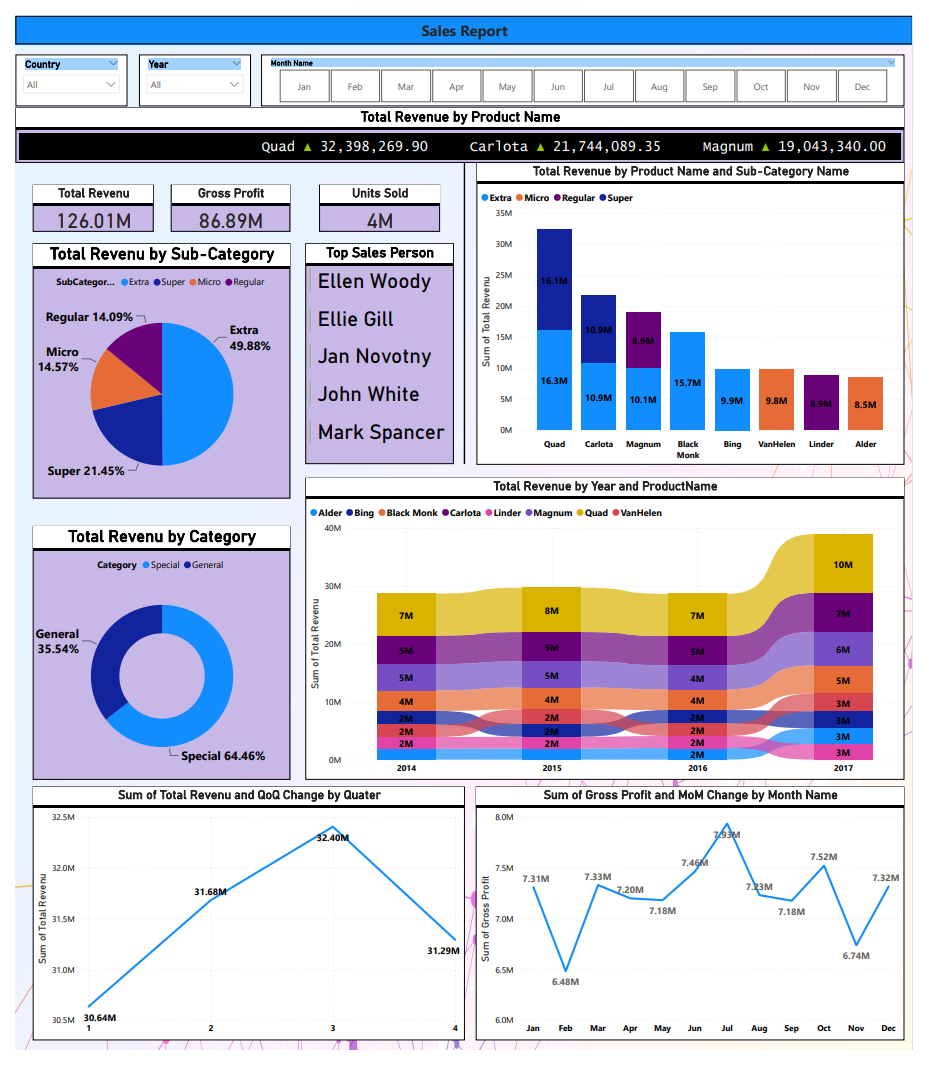

The dashboard page shown, as its layout file describes it:
{"tool":"powerbi","page":{"name":"Page 1","canvas":[1300,1500],"ordinal":0},"visuals":[{"type":"textbox","box":[0,0,1300,41.2],"z":0},{"type":"slicer","fields":{"Values":["Geography.Country"]},"box":[0,56.2,162.3,74.9],"z":1000},{"type":"slicer","fields":{"Values":["DateMaster.Year"]},"box":[178.6,56.2,162.3,74.9],"z":2000},{"type":"slicer","fields":{"Values":["DateMaster.Month Name"]},"box":[355.9,56.2,931.6,74.9],"z":3000},{"type":"card","title":"Total Revenu","fields":{"Values":["Sales.Total Revenu"]},"box":[25,245,175,67.5],"z":4000},{"type":"card","title":"Gross Profit","fields":{"Values":["Sales.Gross Profit"]},"box":[225,245,172.5,67.5],"z":5000},{"type":"card","title":"Units Sold","fields":{"Values":["Sales.Units"]},"box":[440,245,175,67.5],"z":6000},{"type":"shape","box":[632.5,212.5,35,437.5],"z":7000},{"type":"pieChart","title":"Total Revenu by Sub-Category","fields":{"Y":["Sales.Total Revenu"],"Category":["Sub categories.SubCategory Name"]},"box":[25,330,372.5,370],"z":8000},{"type":"donutChart","title":"Total Revenu by Category","fields":{"Y":["Sales.Total Revenu"],"Category":["Categories.Category"]},"box":[25,740,372.5,367.5],"z":9000},{"type":"multiRowCard","title":"Top Sales Person","fields":{"Values":["Sales rep.Sales Rep Name"]},"box":[420,330,215,320],"z":10000},{"type":"ScrollingTextVisual1448795304508","title":"Total Revenue by Product Name","fields":{"Category":["Product.ProductName"],"Measure Deviation":["Sales.Total Revenu"]},"box":[0,132.5,1287.5,80],"z":11000},{"type":"ribbonChart","title":"Total Revenue by Year and ProductName","fields":{"Series":["Product.ProductName"],"Y":["Sales.Total Revenu"],"Category":["DateMaster.Year"]},"box":[420,670,867.5,437.5],"z":12000},{"type":"columnChart","title":"Total Revenue by Product Name and Sub-Category Name","fields":{"Category":["Product.ProductName"],"Y":["Sales.Total Revenu"],"Series":["Sub categories.SubCategory Name"]},"box":[668,213,620,438],"z":13000},{"type":"lineChart","fields":{"Y":["Sales.Total Revenu"],"Category":["DateMaster.Quater"]},"box":[25,1117.7,625.6,368.4],"z":14000},{"type":"lineChart","fields":{"Category":["DateMaster.Month Name"],"Y":["Sales.Gross Profit"]},"box":[666.9,1117.7,620.7,368.4],"z":15000}]}

Visuals, with their boxes on the page's 1300x1500 design canvas (x1, y1, x2, y2). These are canvas units, not pixel positions in the 929x1066 screenshot, which may show the page scaled, cropped or inside an application window:
textbox: 0,0,1300,41
slicer - Geography.Country: 0,56,162,131
slicer - DateMaster.Year: 179,56,341,131
slicer - DateMaster.Month Name: 356,56,1288,131
"Total Revenu" card: 25,245,200,312
"Gross Profit" card: 225,245,398,312
"Units Sold" card: 440,245,615,312
shape: 632,212,668,650
"Total Revenu by Sub-Category" pieChart: 25,330,398,700
"Total Revenu by Category" donutChart: 25,740,398,1108
"Top Sales Person" multiRowCard: 420,330,635,650
"Total Revenue by Product Name" ScrollingTextVisual1448795304508: 0,132,1288,212
"Total Revenue by Year and ProductName" ribbonChart: 420,670,1288,1108
"Total Revenue by Product Name and Sub-Category Name" columnChart: 668,213,1288,651
lineChart - Sales.Total Revenu x DateMaster.Quater: 25,1118,651,1486
lineChart - DateMaster.Month Name x Sales.Gross Profit: 667,1118,1288,1486
